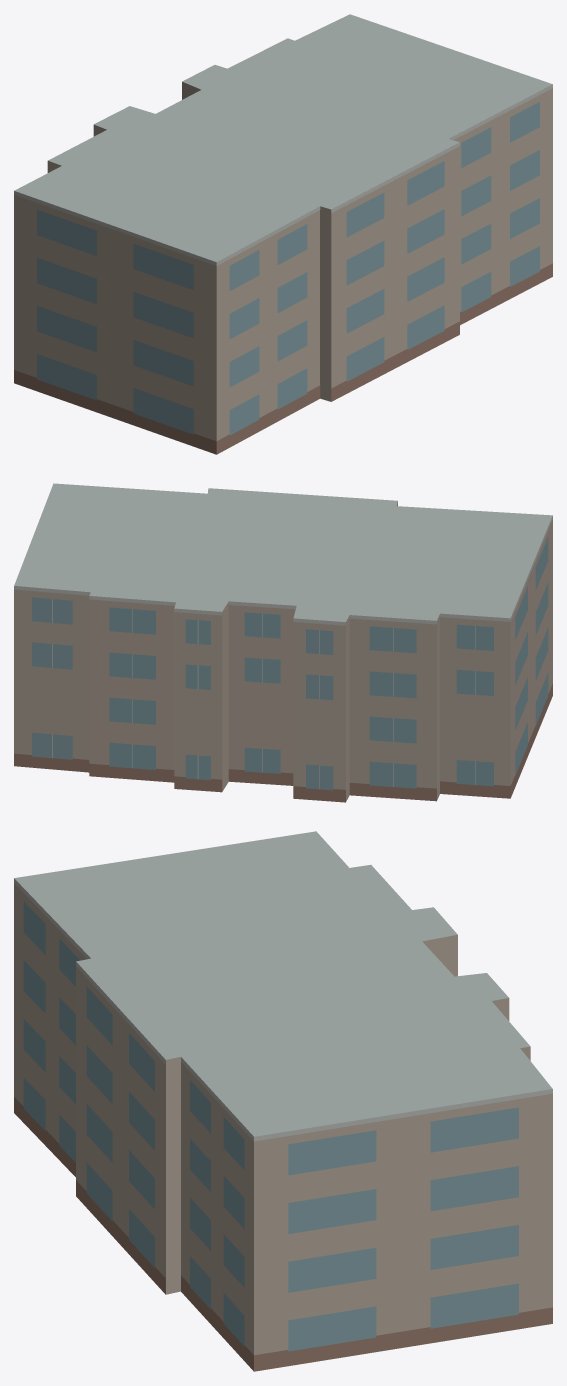
Rendered from survey-upis-32853621.glb.
3 views of the same model, one above another, from view 1: azimuth 30°, elevation 25°; view 2: azimuth 150°, elevation 25°; view 3: azimuth 270°, elevation 25° (orthographic). The views are drawn at different scales.
Visible parts, largest first — view 1: survey-upis-32853621.tmp; view 2: survey-upis-32853621.tmp; view 3: survey-upis-32853621.tmp.
Boxes of the visible parts, x1=… form: survey-upis-32853621.tmp: x1=14, y1=14, x2=552, y2=454; survey-upis-32853621.tmp: x1=14, y1=483, x2=552, y2=802; survey-upis-32853621.tmp: x1=14, y1=831, x2=552, y2=1371.
Bounding box in the file's own units: 34.06 × 12.2 × 25.38.
